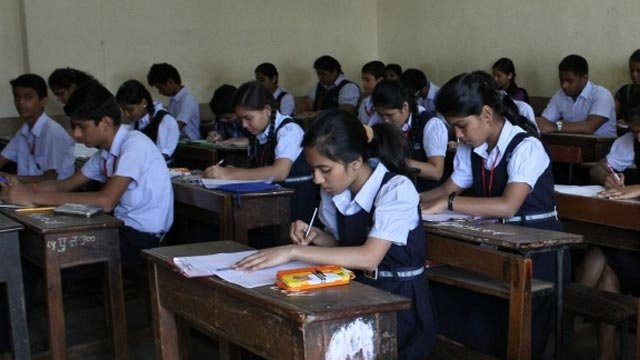student: (264, 112, 418, 277), (426, 77, 555, 234), (55, 89, 157, 223), (206, 92, 302, 198), (539, 55, 614, 146), (145, 56, 204, 145), (366, 81, 421, 149), (301, 59, 352, 112)
